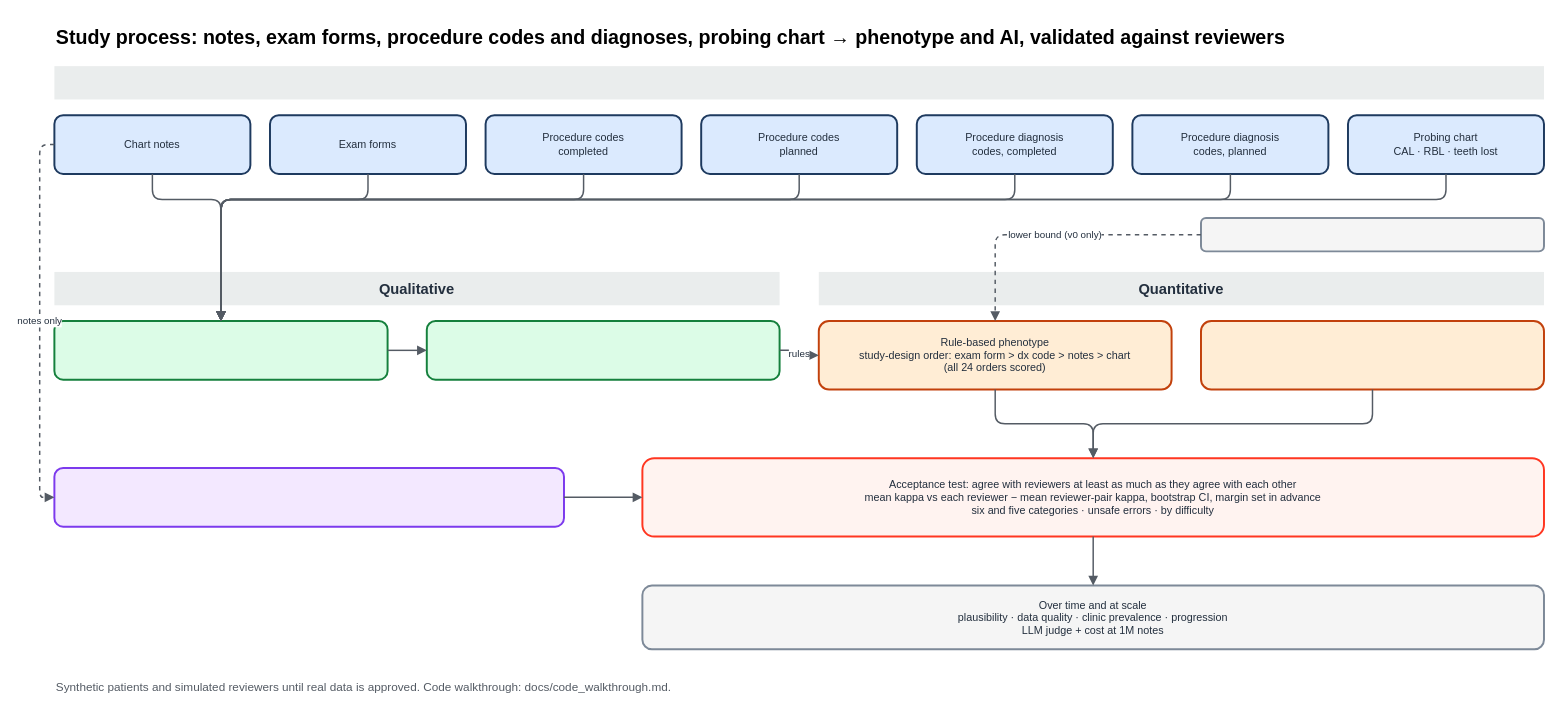
Some shapes in this 1561 by 719 pixel diagram are drawn without their labels. Here are the shapes that lost their labels. From the top down, the box of each, then its label:
(54, 66, 1544, 99): Evidence types (one visit)
(1200, 217, 1544, 252): Radiograph AI (exploratory) · bone level per tooth
(53, 319, 388, 380): Compare each evidence type with every other agreement, kappa, coverage
(425, 319, 780, 380): Qualitative review two dental reviewers, disagreeing charts
(1200, 319, 1544, 390): Many reviewers stage the same charts Label Studio, independently
(53, 466, 564, 527): AI models read the note only rules · TF-IDF · 12 BERT models · MedGemma
